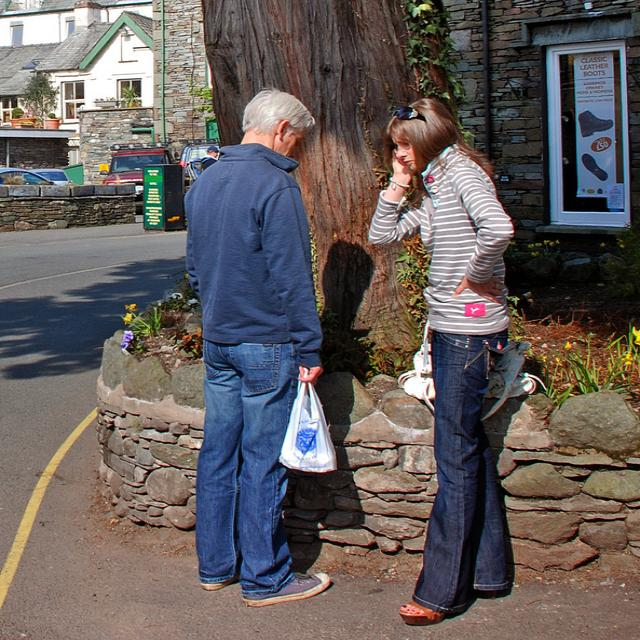Vehicle: (100, 142, 171, 195), (180, 138, 220, 196), (0, 168, 57, 184), (32, 168, 72, 184)
